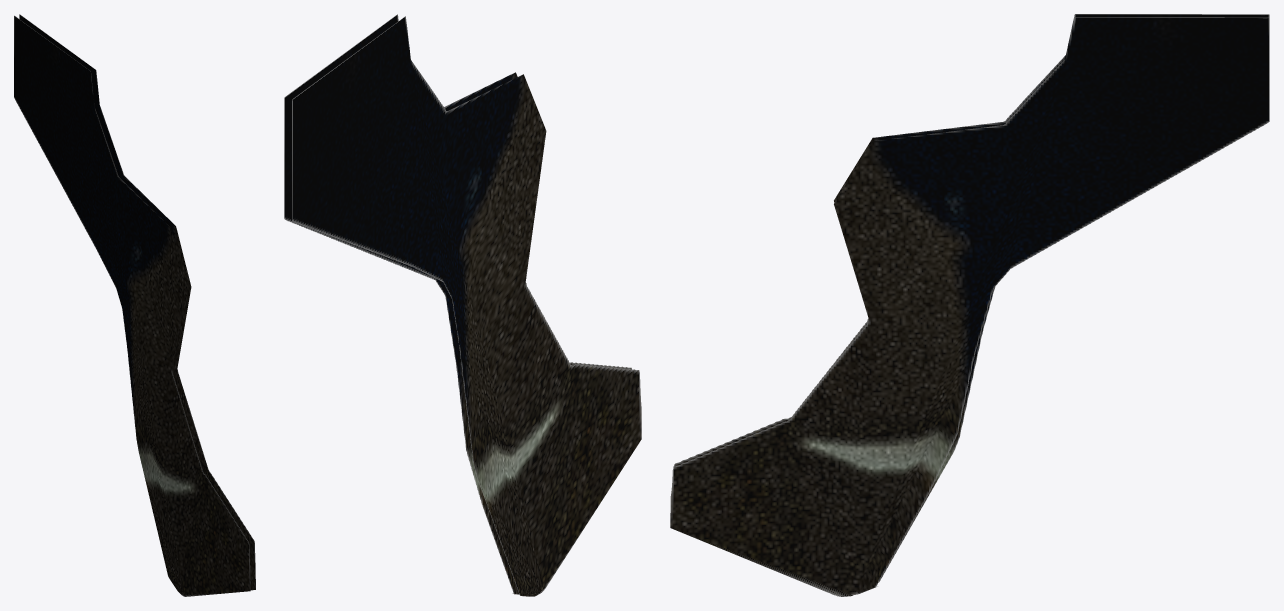
File: Peça 1.fbx
3 views of the same model, side by side, from view 1: azimuth 30°, elevation 25°; view 2: azimuth 150°, elevation 25°; view 3: azimuth 270°, elevation 25° (orthographic). The views are drawn at different scales.
Visible parts, largest first — view 1: Plane; view 2: Plane; view 3: Plane.
Boxes of the visible parts, bbox=[...] form: Plane: bbox=[14, 14, 255, 596]; Plane: bbox=[284, 14, 641, 596]; Plane: bbox=[670, 14, 1269, 596].
Size of the model in its own units: 6.1 by 499 by 468.
